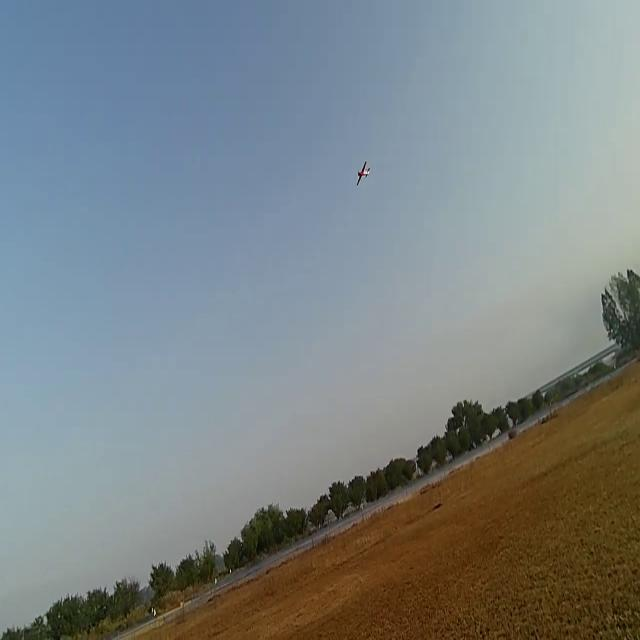iha: (354, 162, 372, 188)
